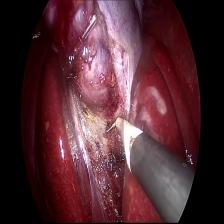Hook: (104, 114, 143, 164)
